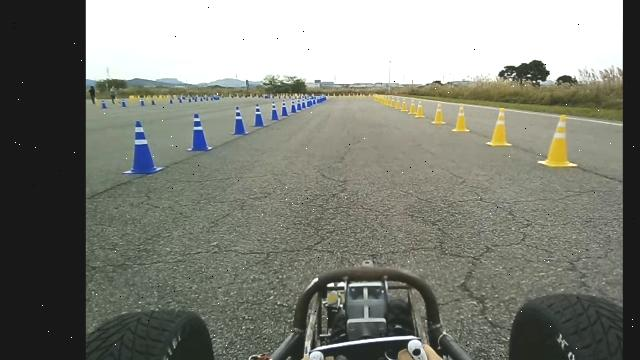blue cone: (115, 116, 165, 178), (185, 105, 215, 156), (232, 101, 250, 137), (250, 97, 267, 131)
yellow cone: (537, 114, 578, 168), (486, 106, 512, 147), (451, 103, 470, 132), (431, 102, 446, 124), (414, 100, 426, 118), (407, 100, 416, 114), (394, 97, 402, 110), (401, 100, 408, 112)
